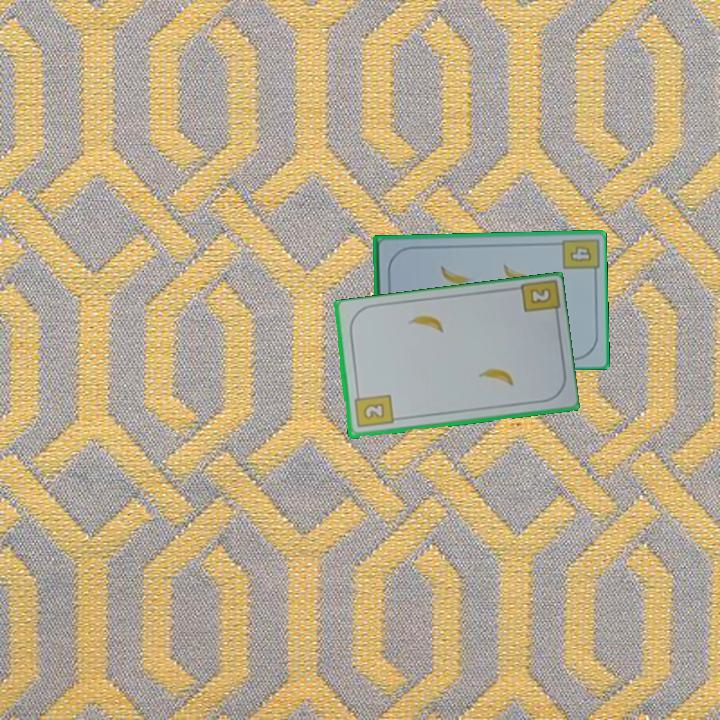2b: (350, 389, 395, 431), (526, 284, 554, 307)
4b: (567, 242, 595, 265)
